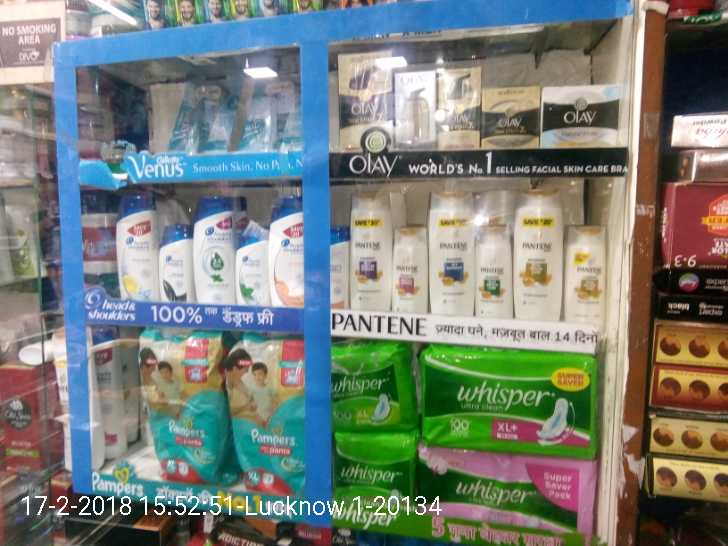venus: (242, 79, 296, 153), (180, 74, 231, 151)
